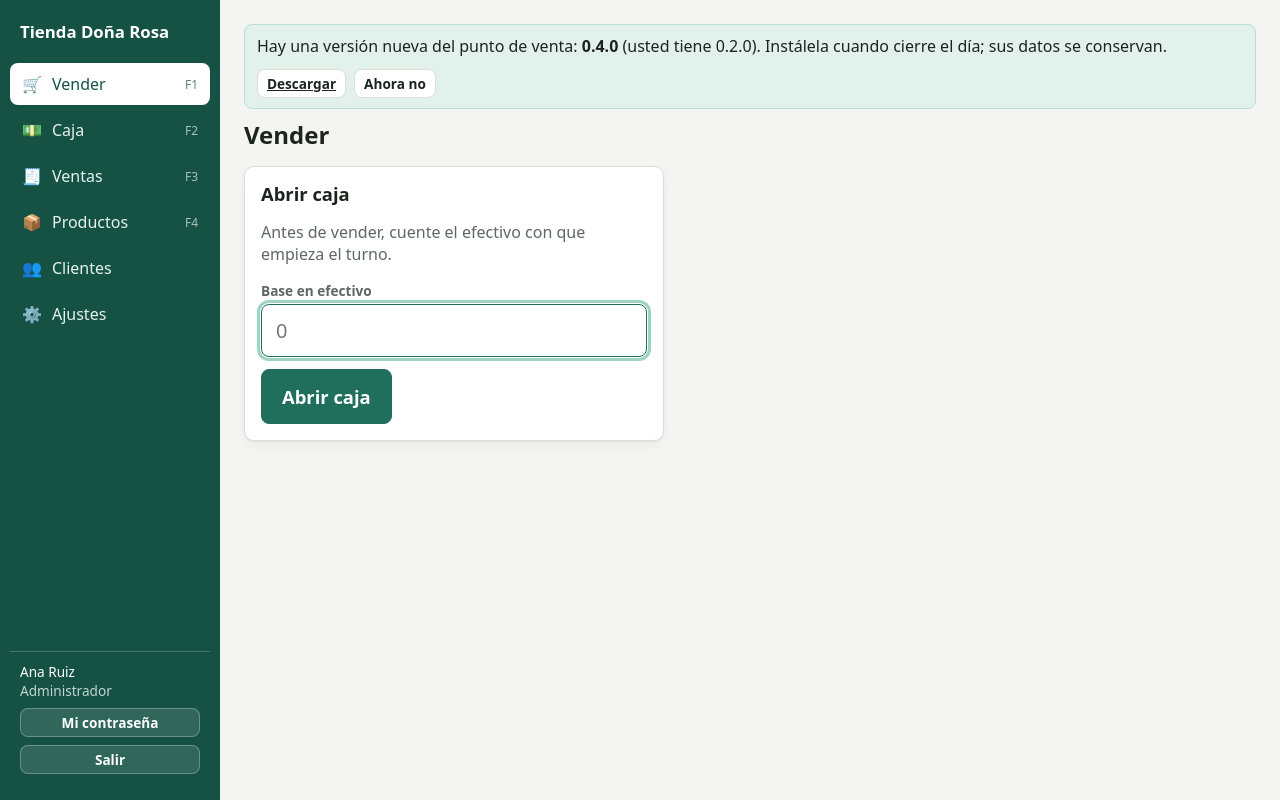
Test case: versión nueva › avisa al administrador y se puede ocultar hasta la siguiente
Click the button "Ahora no" at x=395, y=84, box x1=354 y1=69 x2=436 y2=98
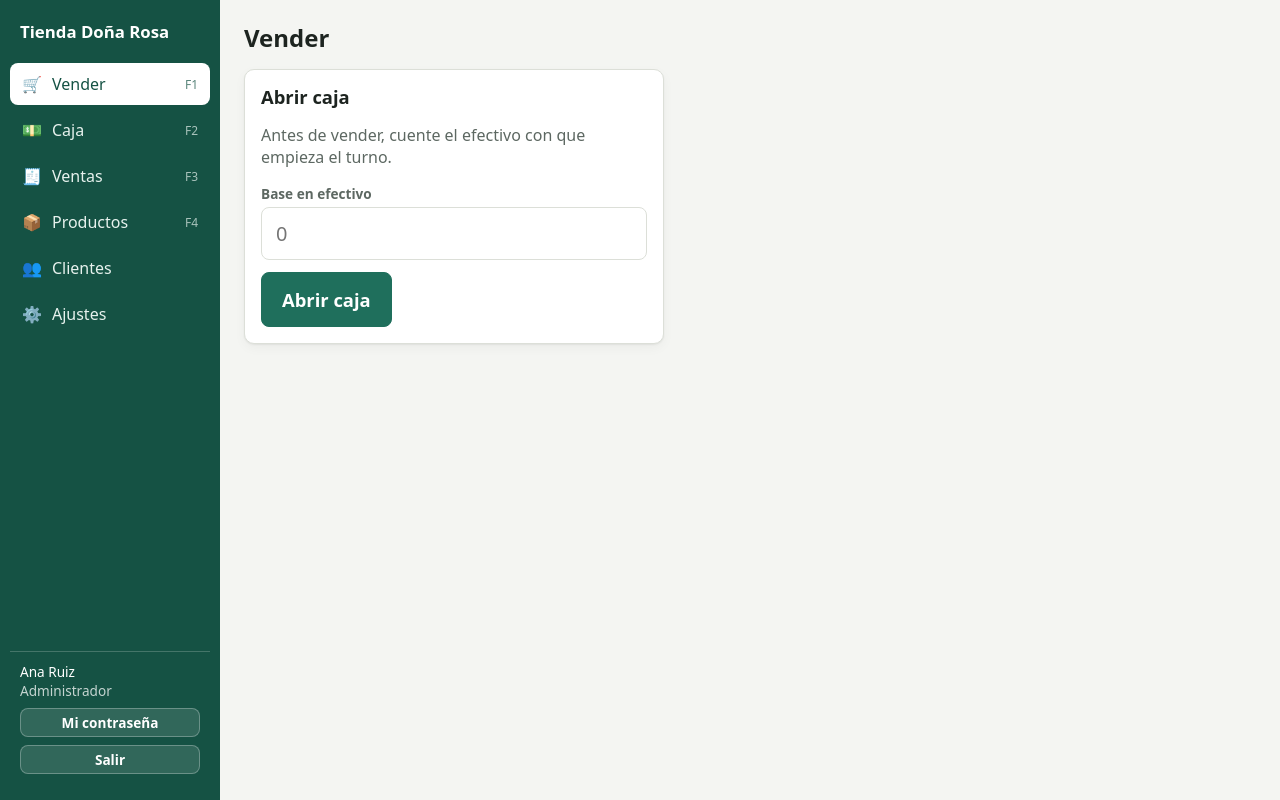
Expected: the text "Hay una versión nueva" is gone
